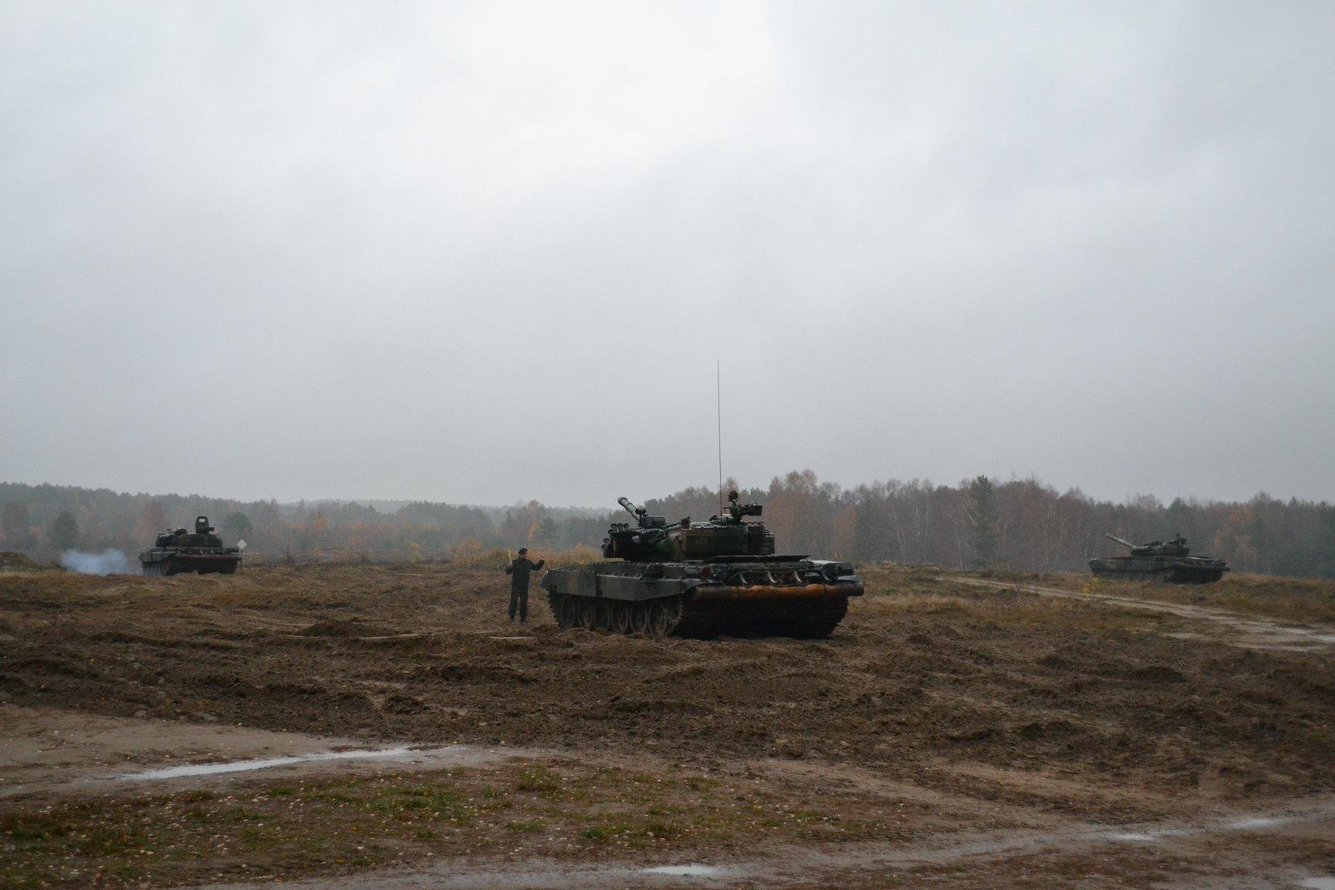person: (504, 547, 545, 626)
tank: (538, 488, 865, 643), (1088, 530, 1231, 587), (138, 515, 243, 578)
